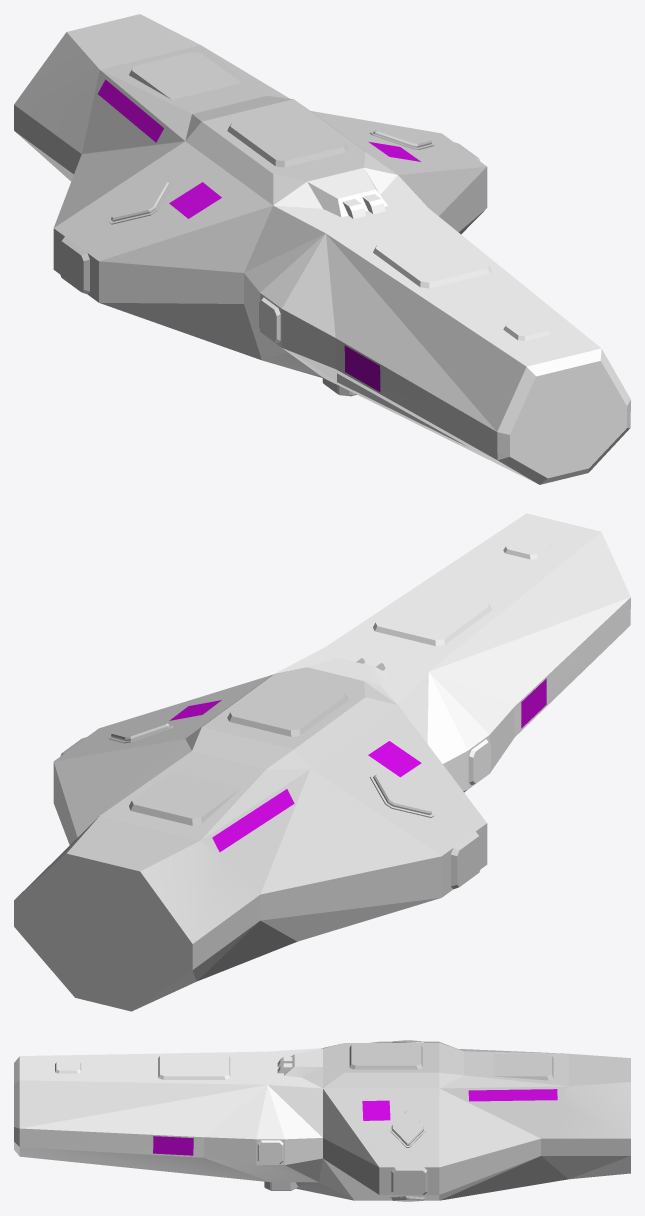
The model's file is Irsavatha Collider.glb.
3 renders of one model, top to bottom at view 1: azimuth 30°, elevation 25°; view 2: azimuth 150°, elevation 25°; view 3: azimuth 270°, elevation 25°, orthographic. The views are drawn at different scales.
Parts seen in each view (by area): view 1: CL_Irsavatha_Stern_LOD0.021, CL_Irsavatha_Bow_LOD0.008, CL_Irsavatha_Bow_LOD0.003, CL_Irsavatha_Bow_LOD0.007, CL_Irsavatha_Stern_LOD0.013, CL_Irsavatha_Stern_LOD0.017, CL_Irsavatha_Stern_LOD0.019, CL_Irsavatha_Bow_LOD0.019, CL_Irsavatha_Stern_LOD0.011, CL_Irsavatha_Bow_LOD0.009, CL_Irsavatha_Bow_LOD0.017, CL_Irsavatha_Stern_LOD0.016 (+10 smaller); view 2: CL_Irsavatha_Stern_LOD0.013, CL_Irsavatha_Stern_LOD0.016, CL_Irsavatha_Bow_LOD0.008, CL_Irsavatha_Stern_LOD0.021, CL_Irsavatha_Stern_LOD0.017, CL_Irsavatha_Bow_LOD0.003, CL_Irsavatha_Stern_LOD0.019, CL_Irsavatha_Stern_LOD0.011, CL_Irsavatha_Bow_LOD0.009, CL_Irsavatha_Stern_LOD0.018, CL_Irsavatha_Bow_LOD0.002, CL_Irsavatha_Bow_LOD0.019 (+7 smaller); view 3: CL_Irsavatha_Bow_LOD0.008, CL_Irsavatha_Stern_LOD0.021, CL_Irsavatha_Stern_LOD0.013, CL_Irsavatha_Bow_LOD0.003, CL_Irsavatha_Stern_LOD0.016, CL_Irsavatha_Stern_LOD0.017, CL_Irsavatha_Bow_LOD0.002, CL_Irsavatha_Stern_LOD0.019, CL_Irsavatha_Bow_LOD0.004, CL_Irsavatha_Bow_LOD0.019, CL_Irsavatha_Bow_LOD0.017, CL_Irsavatha_Stern_LOD0.011 (+13 smaller).
Boxes of the visible parts, left/top/right/bottom form: CL_Irsavatha_Stern_LOD0.021: left=53, top=111, right=487, bottom=360; CL_Irsavatha_Bow_LOD0.008: left=326, top=206, right=601, bottom=431; CL_Irsavatha_Bow_LOD0.003: left=326, top=234, right=497, bottom=460; CL_Irsavatha_Bow_LOD0.007: left=497, top=348, right=630, bottom=484; CL_Irsavatha_Stern_LOD0.013: left=14, top=14, right=199, bottom=181; CL_Irsavatha_Stern_LOD0.017: left=82, top=45, right=289, bottom=153; CL_Irsavatha_Stern_LOD0.019: left=185, top=96, right=397, bottom=205; CL_Irsavatha_Bow_LOD0.019: left=282, top=233, right=335, bottom=368; CL_Irsavatha_Stern_LOD0.011: left=227, top=108, right=348, bottom=167; CL_Irsavatha_Bow_LOD0.009: left=373, top=230, right=491, bottom=288; CL_Irsavatha_Bow_LOD0.017: left=244, top=175, right=428, bottom=272; CL_Irsavatha_Stern_LOD0.016: left=54, top=141, right=184, bottom=227; CL_Irsavatha_Stern_LOD0.013: left=14, top=816, right=260, bottom=1011; CL_Irsavatha_Stern_LOD0.016: left=53, top=739, right=441, bottom=941; CL_Irsavatha_Bow_LOD0.008: left=326, top=513, right=630, bottom=673; CL_Irsavatha_Stern_LOD0.021: left=54, top=675, right=487, bottom=897; CL_Irsavatha_Stern_LOD0.017: left=100, top=739, right=309, bottom=894; CL_Irsavatha_Bow_LOD0.003: left=429, top=597, right=630, bottom=736; CL_Irsavatha_Stern_LOD0.019: left=185, top=667, right=397, bottom=769; CL_Irsavatha_Stern_LOD0.011: left=227, top=677, right=348, bottom=736; CL_Irsavatha_Bow_LOD0.009: left=373, top=588, right=491, bottom=646; CL_Irsavatha_Stern_LOD0.018: left=129, top=771, right=241, bottom=825; CL_Irsavatha_Bow_LOD0.002: left=427, top=672, right=489, bottom=792; CL_Irsavatha_Bow_LOD0.019: left=429, top=672, right=514, bottom=773; CL_Irsavatha_Bow_LOD0.008: left=19, top=1051, right=283, bottom=1128; CL_Irsavatha_Stern_LOD0.021: left=323, top=1041, right=439, bottom=1200; CL_Irsavatha_Stern_LOD0.013: left=541, top=1053, right=630, bottom=1179; CL_Irsavatha_Bow_LOD0.003: left=19, top=1085, right=266, bottom=1157; CL_Irsavatha_Stern_LOD0.016: left=439, top=1042, right=540, bottom=1200; CL_Irsavatha_Stern_LOD0.017: left=439, top=1048, right=568, bottom=1138; CL_Irsavatha_Bow_LOD0.002: left=205, top=1085, right=322, bottom=1182; CL_Irsavatha_Stern_LOD0.019: left=323, top=1043, right=463, bottom=1088; CL_Irsavatha_Bow_LOD0.004: left=19, top=1147, right=270, bottom=1182; CL_Irsavatha_Bow_LOD0.019: left=204, top=1085, right=267, bottom=1164; CL_Irsavatha_Bow_LOD0.017: left=268, top=1048, right=322, bottom=1137; CL_Irsavatha_Stern_LOD0.011: left=349, top=1043, right=422, bottom=1069.
Bounding box in the file's own units: 7.98 × 3.86 × 16.16.
